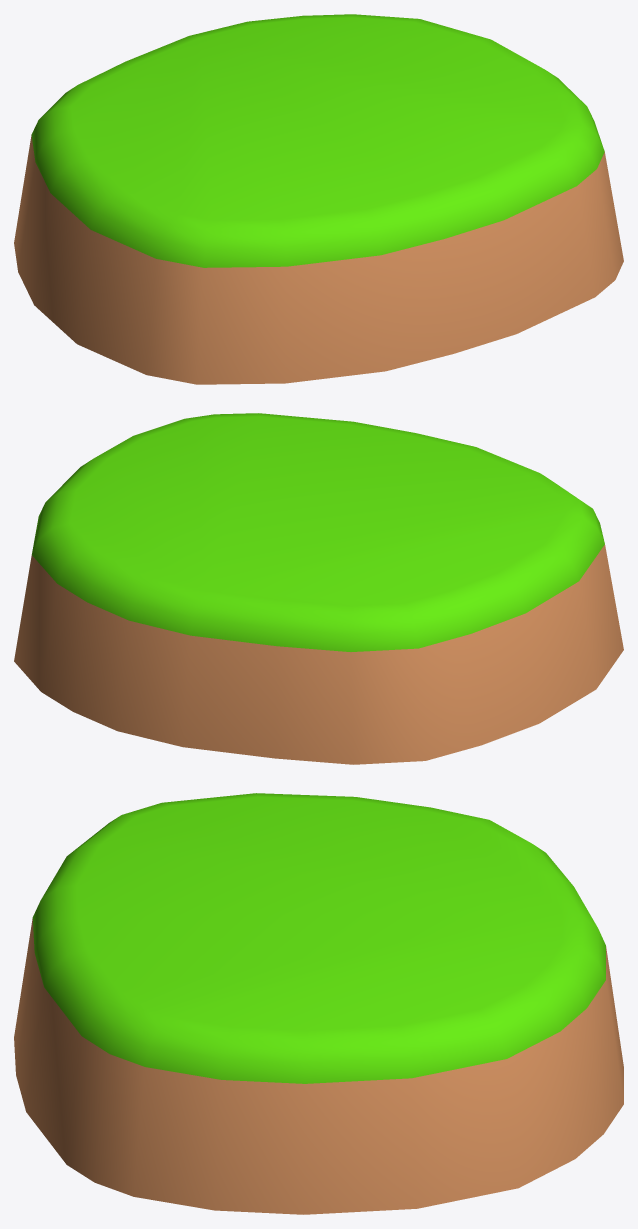
Rendered from Hill_4.fbx.
3 views of the same model, one above another, from view 1: azimuth 30°, elevation 25°; view 2: azimuth 150°, elevation 25°; view 3: azimuth 270°, elevation 25° (orthographic). The views are drawn at different scales.
Parts seen in each view (by area): view 1: Hill_4; view 2: Hill_4; view 3: Hill_4.
Part boxes in pixels (box(x1,y1,x2,y2)): Hill_4: box(14, 14, 623, 384); Hill_4: box(14, 413, 623, 764); Hill_4: box(14, 793, 623, 1214).
Size of the model in its own units: 5.83 by 1.47 by 5.2.
